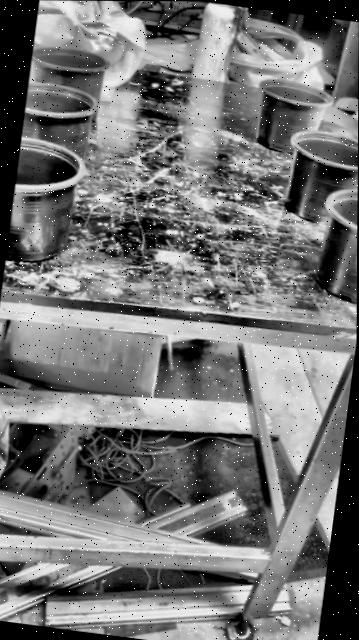pot: (4, 138, 84, 271), (285, 131, 358, 222), (251, 79, 332, 155), (20, 82, 97, 159), (312, 187, 358, 306), (30, 47, 108, 100)
